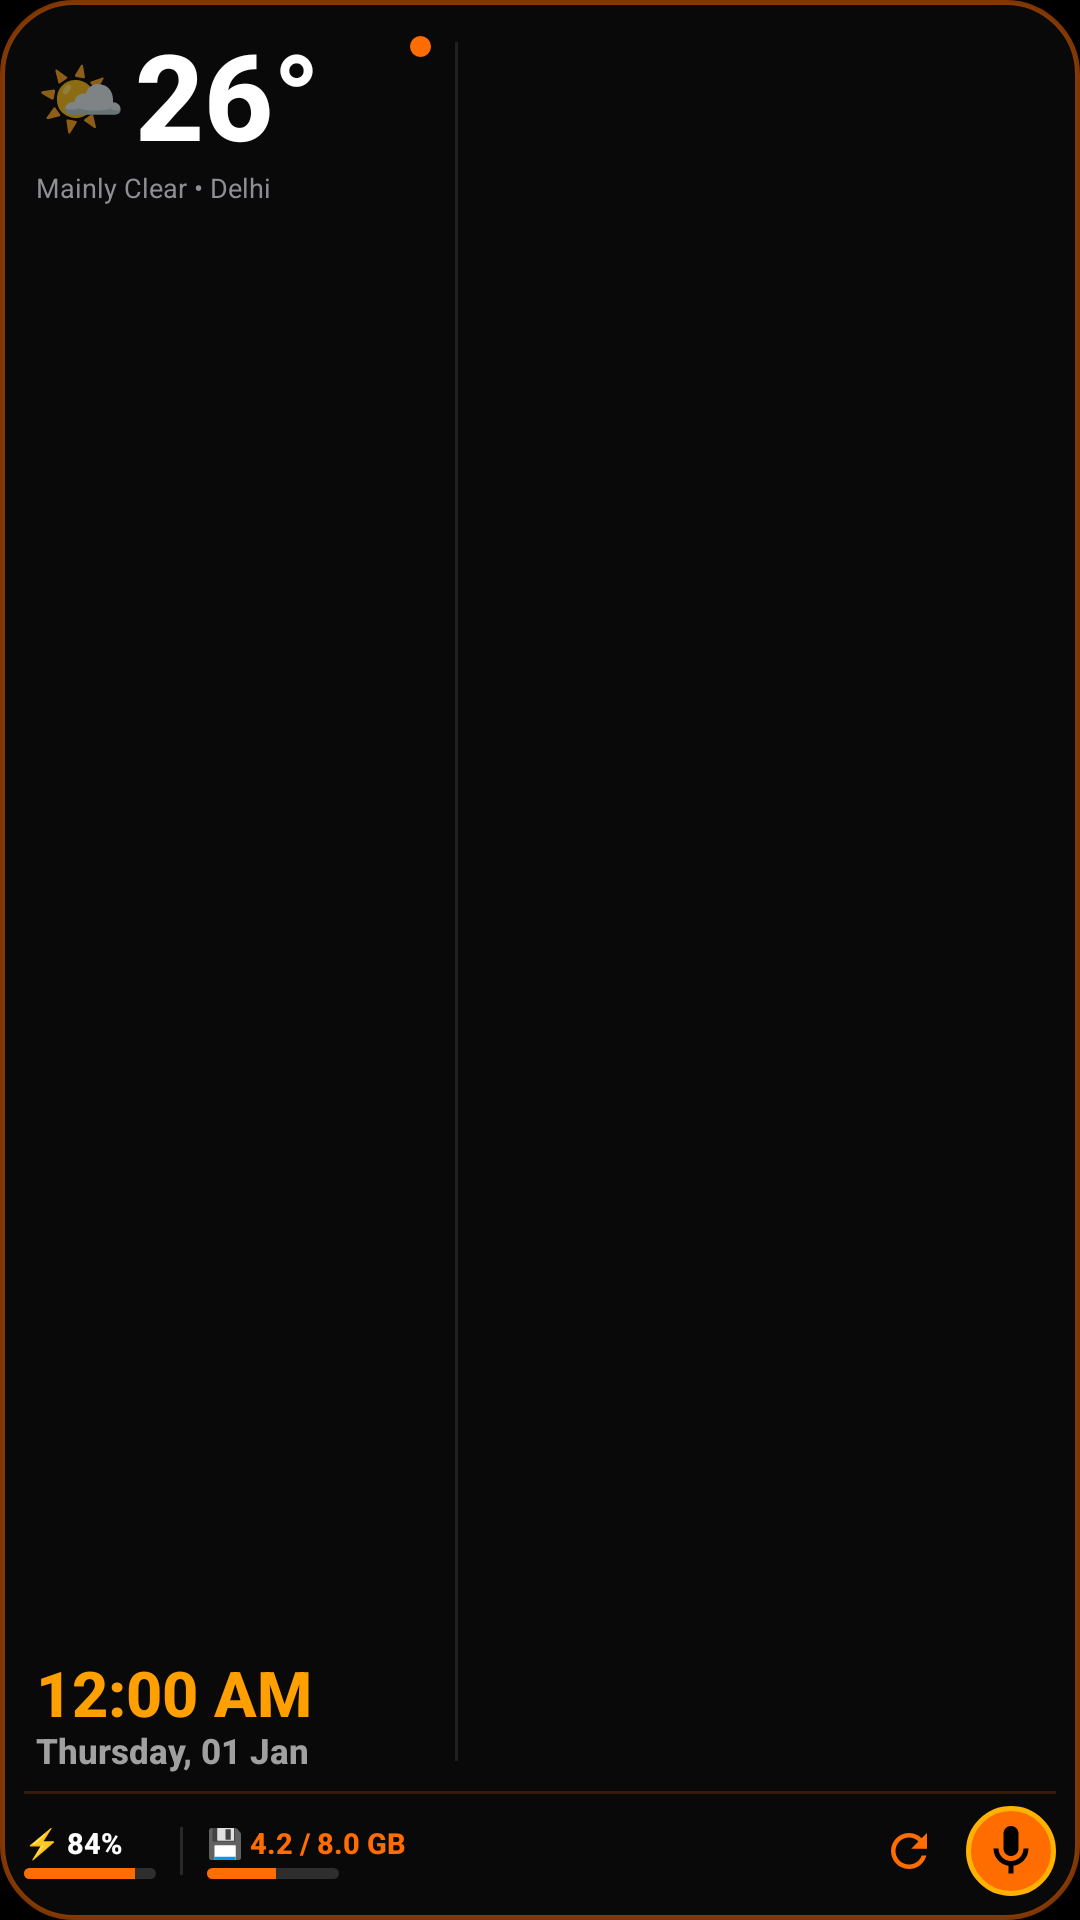

Locate icon controls on the screen. Image size 1080px x 1920px, boxes as [x1, y1, x2, y2].
Refresh: [891, 1833, 927, 1869]
Talk to Friday: [966, 1806, 1056, 1896]
